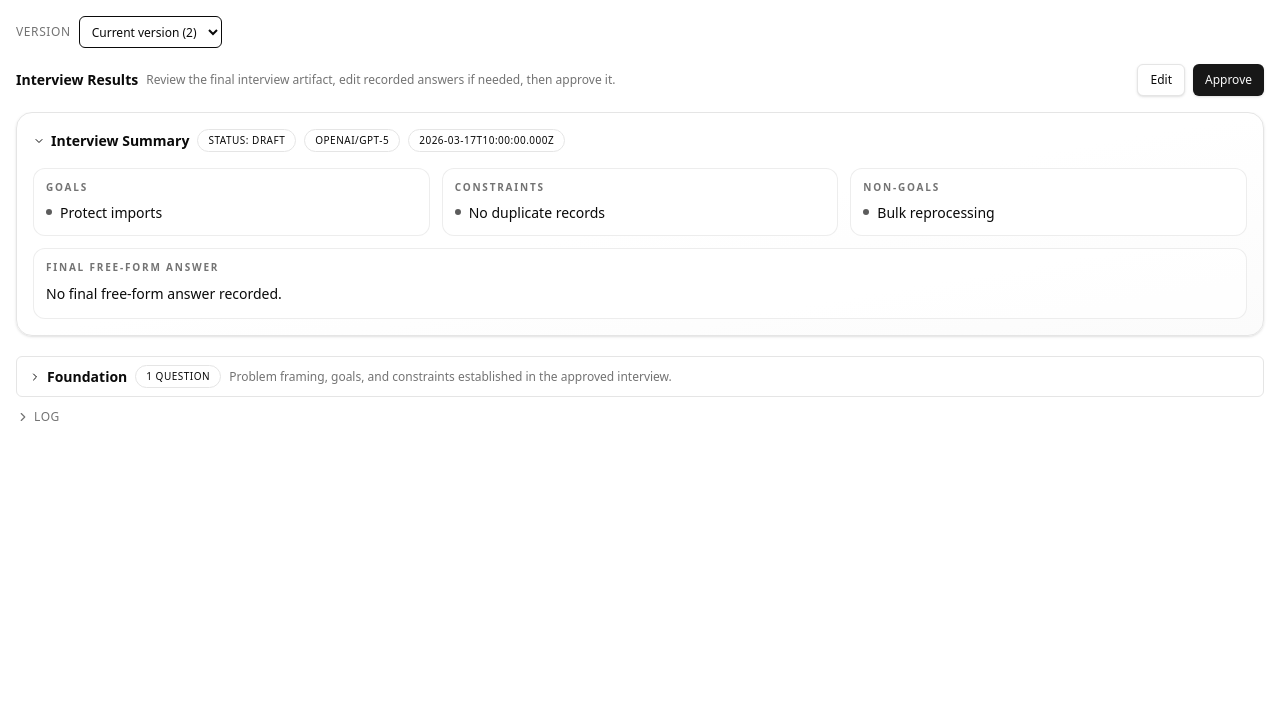
Test: Interview approval UI › defaults the version selector to the active Interview approval version and routes archived versions to read-only history
The width and height of the screenshot is (1280, 720).
Check: the button "Edit" is shown, box [1138, 64, 1185, 96]
Step 1. Select "Archived version 1" in the dropdown labelled "Version" → coordinates (150, 32), box [79, 16, 222, 48]
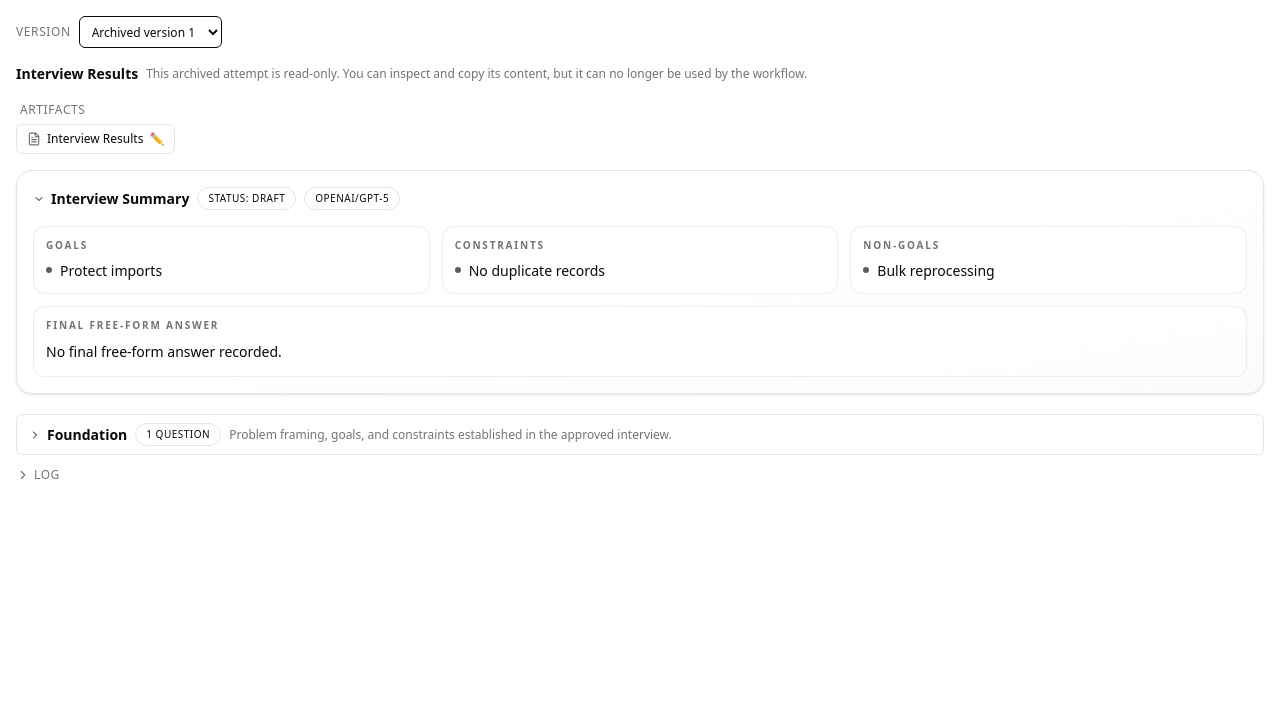
Check: the text "This archived attempt is read-only. You can inspect and copy its content, but it can no longer be used by the workflow." is shown, box [146, 65, 807, 82]
Check: the text "edit" is gone
Step 2. Click the button "Foundation" → coordinates (640, 435), box [17, 415, 1263, 454]
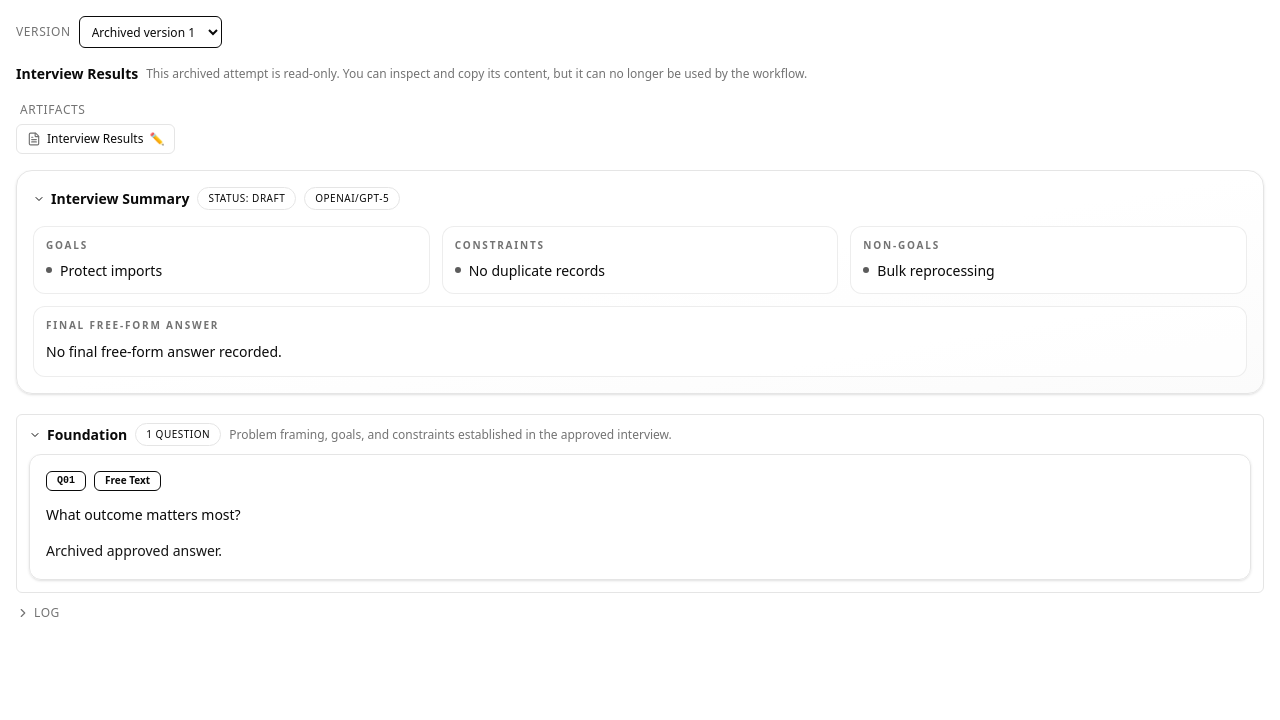
Check: the text "Archived approved answer." is shown, box [46, 541, 222, 560]
